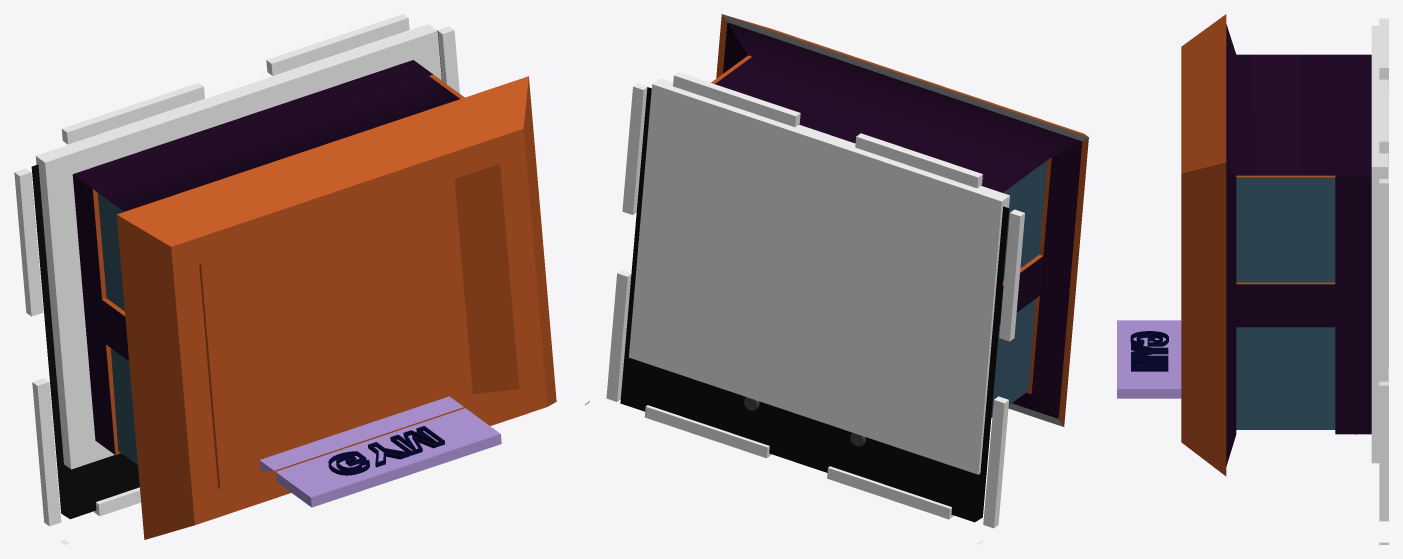
Rendered from gym.obj.
3 views of the same model, side by side, from view 1: azimuth 30°, elevation 25°; view 2: azimuth 150°, elevation 25°; view 3: azimuth 270°, elevation 25° (orthographic). The views are drawn at different scales.
Parts seen in each view (by area): view 1: Gym_1269.012; view 2: Gym_1269.012; view 3: Gym_1269.012.
Boxes of the visible parts, x1,y1,x2,y2 form: Gym_1269.012: (14, 14, 556, 544); Gym_1269.012: (585, 14, 1088, 544); Gym_1269.012: (1117, 14, 1388, 544).
Size of the model in its own units: 0.3553 by 0.3079 by 0.1885.
